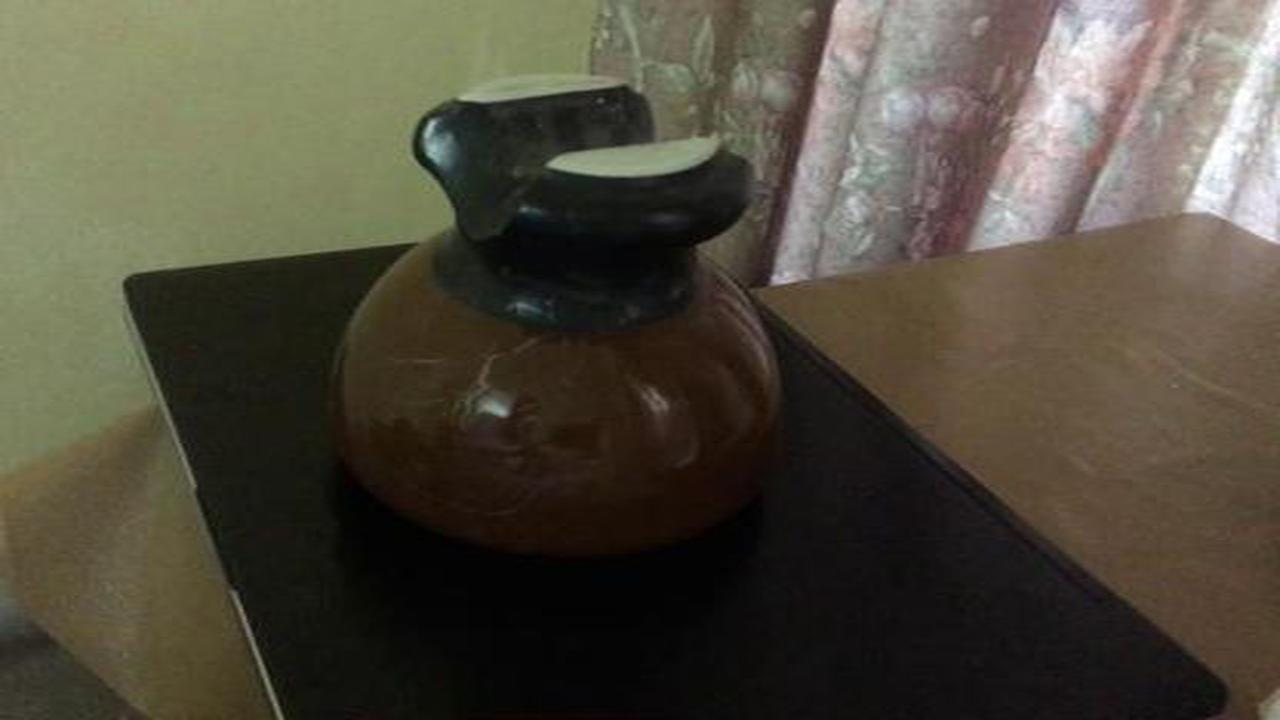insulator_pin: (311, 66, 822, 573)
